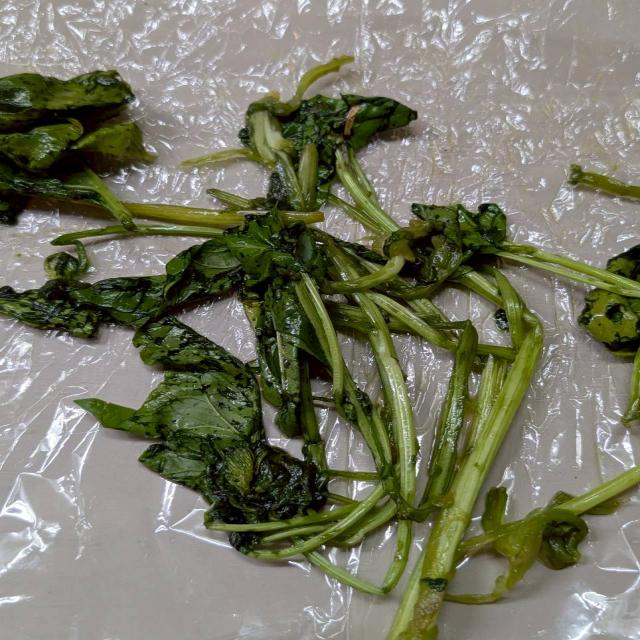rotten spinach: (2, 34, 640, 632)
